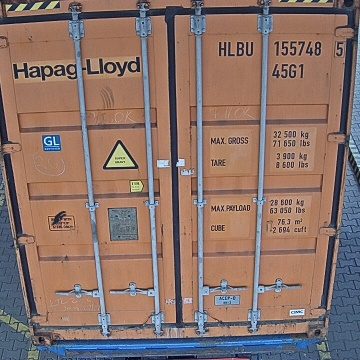serial_id: (219, 41, 345, 56)
